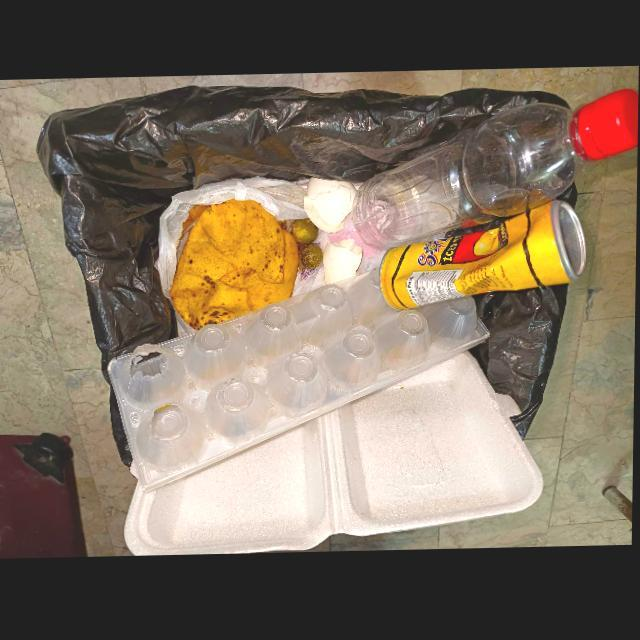biowaste: (171, 200, 300, 332), (304, 179, 357, 235), (324, 241, 363, 287), (292, 221, 319, 246), (301, 246, 324, 271)
metal: (381, 202, 588, 312)
plastic: (108, 268, 489, 490), (353, 91, 639, 251)
styrofoam: (124, 354, 546, 558)
